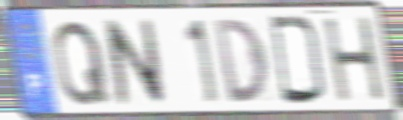1: (183, 17, 222, 106)
D: (266, 13, 328, 107), (210, 16, 271, 106)
H: (320, 14, 388, 105)
N: (101, 17, 168, 107)
Q: (51, 18, 113, 109)
